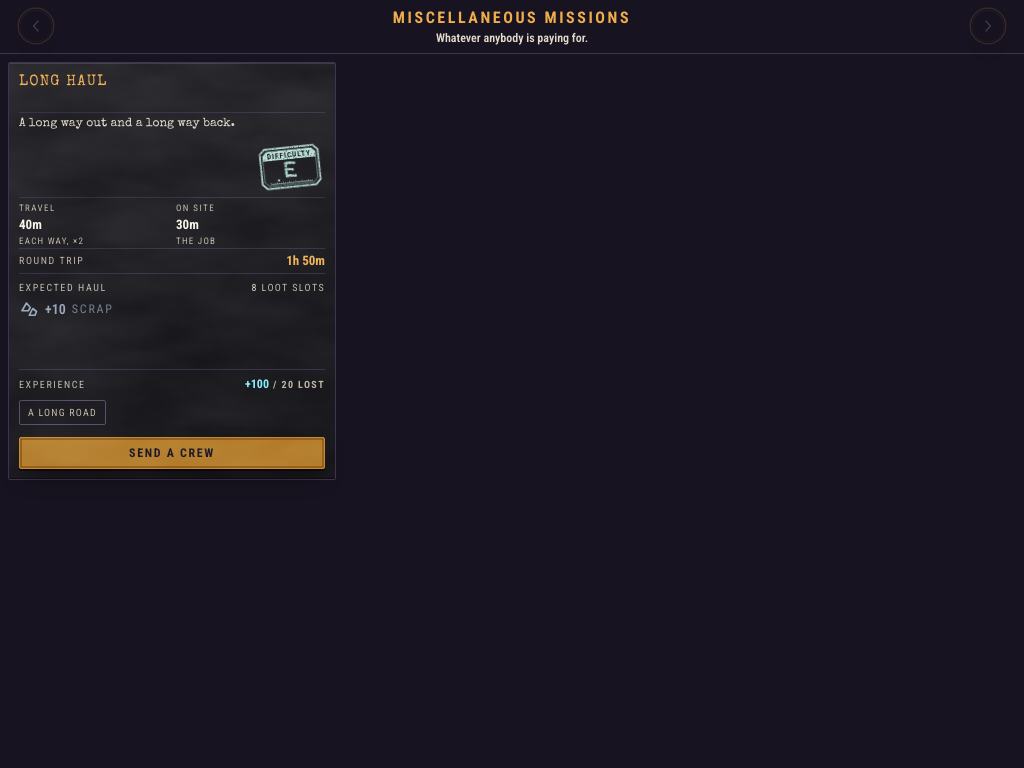
Test: picking the people first › clears the moment the crew makes it fit, either way round
The image size is (1024, 768).
Click the button "Send a crew" at (172,452), box [19,436,325,468]
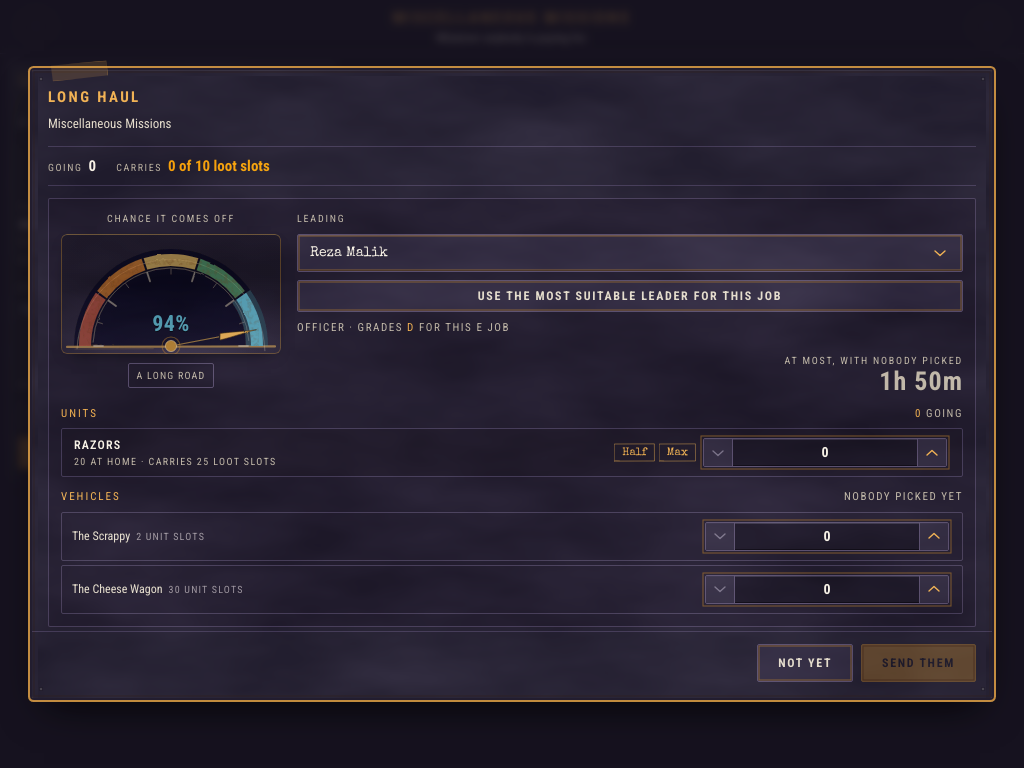
Replace the text in the number field named "How many Razors" with "9" at (825,453), box [732,439,918,466]
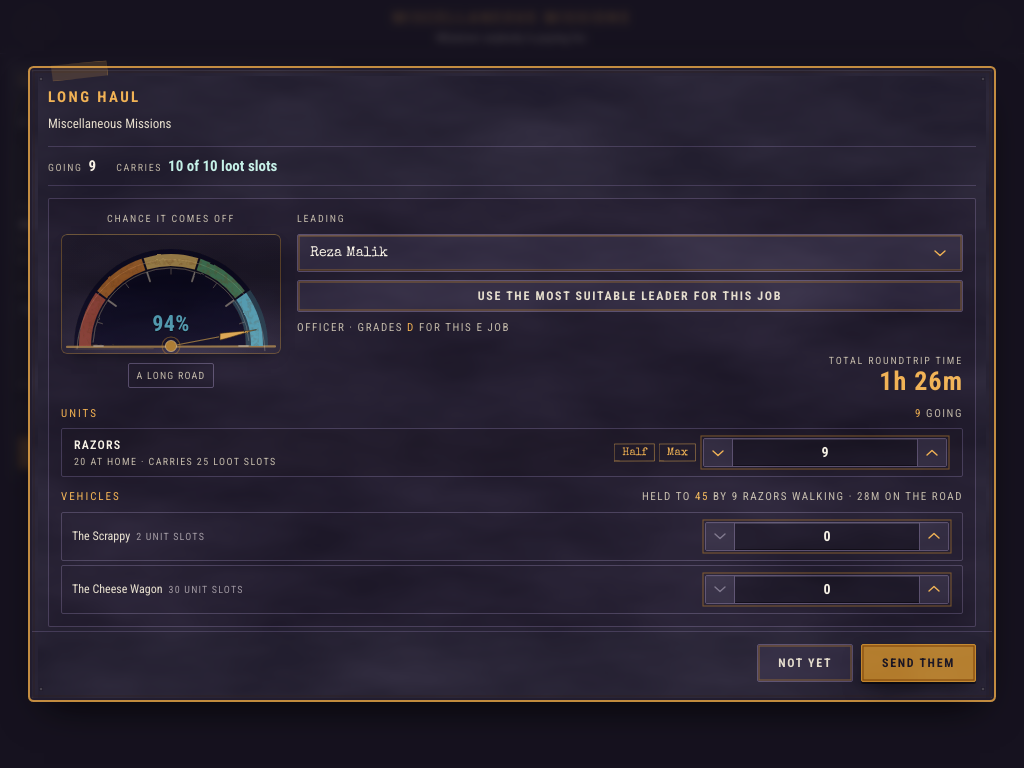
Replace the text in the number field named "How many Scrappy" with "1" at (827,536), box [734,523,920,550]
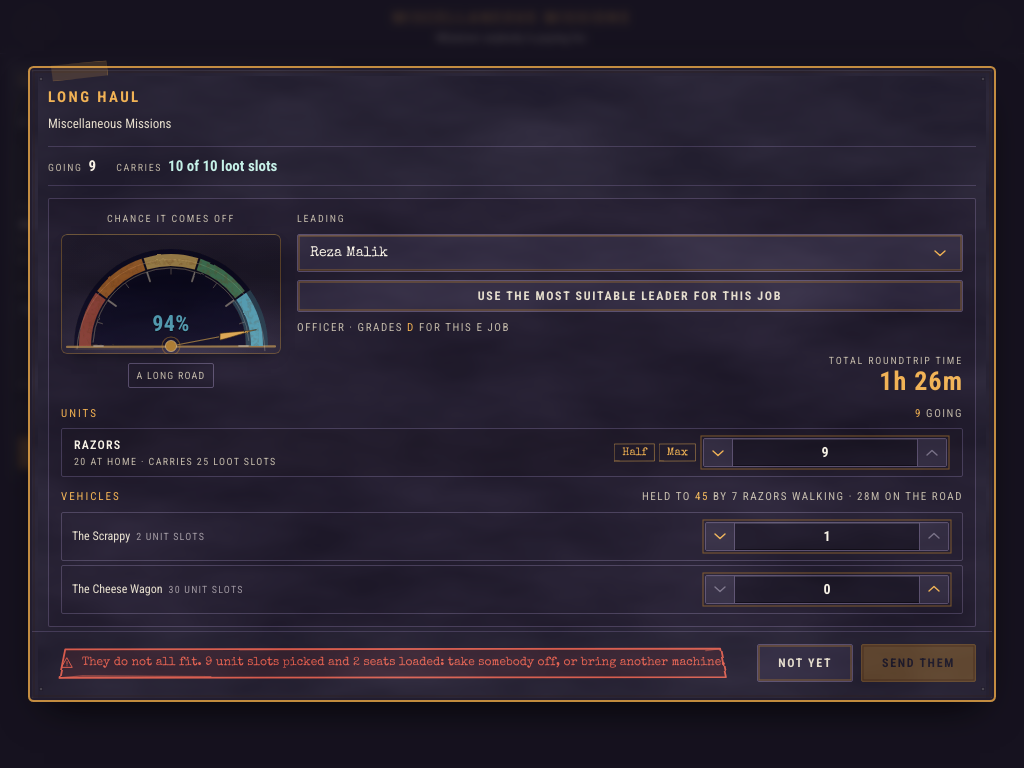
Expected: the button with test id "confirm-send" is disabled, [861,644,976,682]
Replace the text in the number field named "How many Cheese Wagon" with "1" at (827,589), box [734,576,920,603]
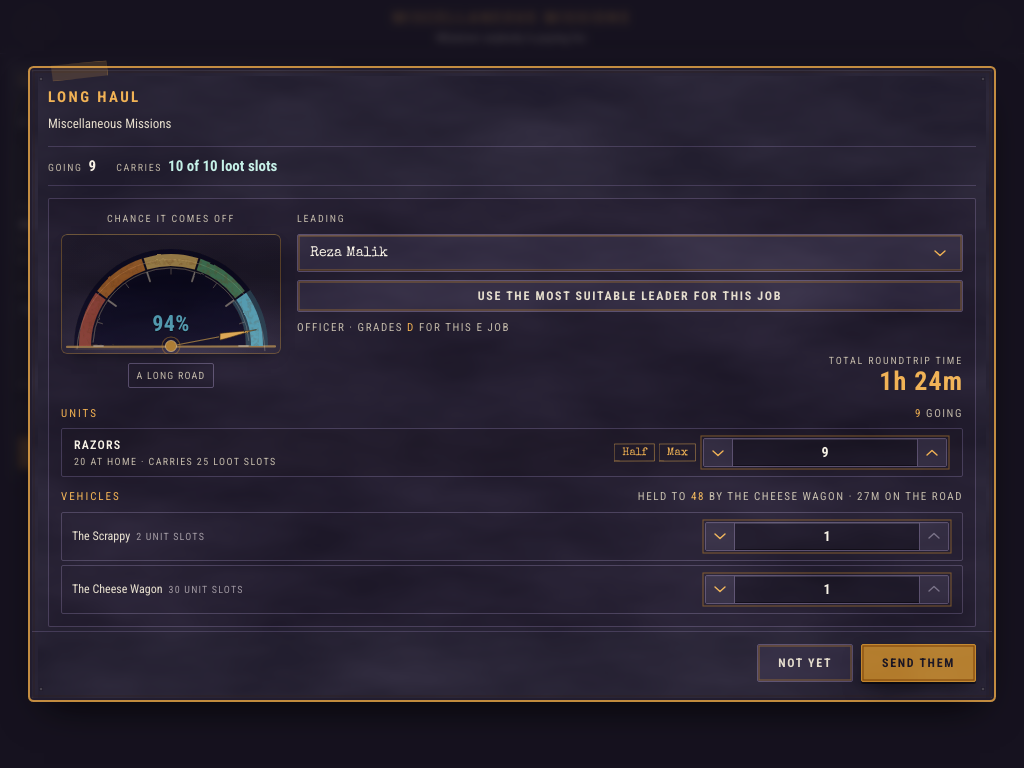
Expected: the message with test id "mission-overloaded" is gone
Expected: the button with test id "confirm-send" is enabled, [861,644,976,682]
